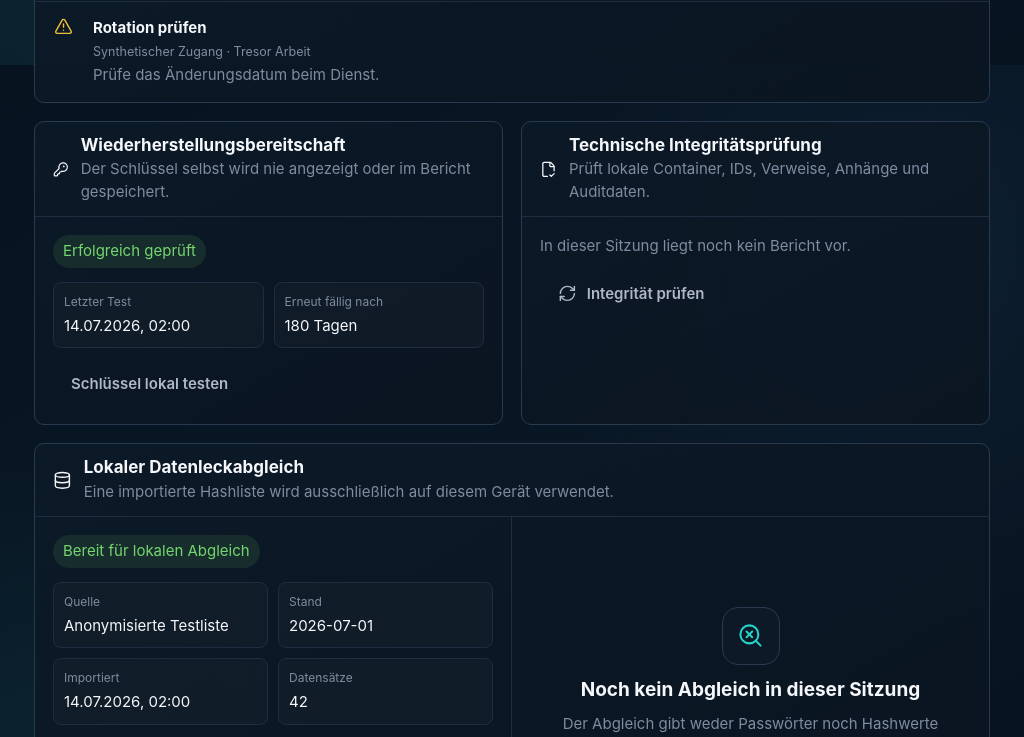
Test: Sicherheitszentrale › leert den Wiederherstellungsschlüssel beim Schließen und übergibt ihn nur an die sichere API
The image size is (1024, 737).
(page scrolled)
Expected: the element "Wiederherstellungsbereitschaft" is shown, top-left (34, 121), bottom-right (503, 425)
Click the button "Schlüssel lokal testen" at (150, 384), box top-left (53, 362), bottom-right (246, 406)
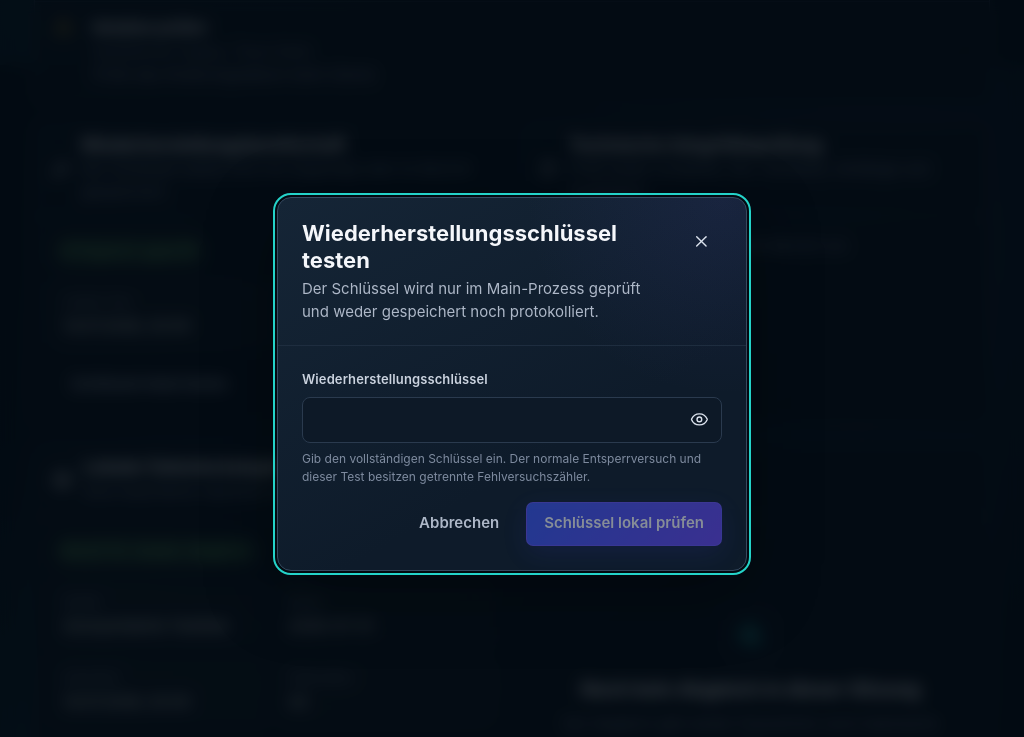
Type "SYNTHETISCHER-TESTSCHLUESSEL" into the password field labelled "Wiederherstellungsschlüssel" at (512, 420), box top-left (302, 397), bottom-right (722, 443)
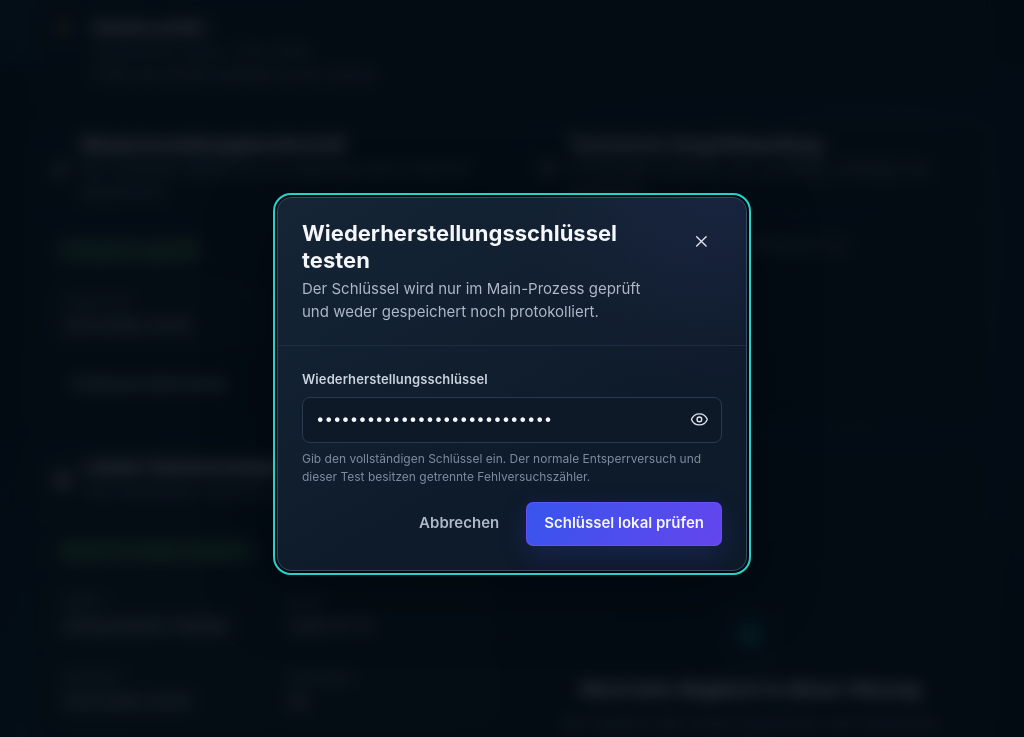
Click the button named "Dialog schließen" at (701, 241), box top-left (680, 220), bottom-right (722, 262)
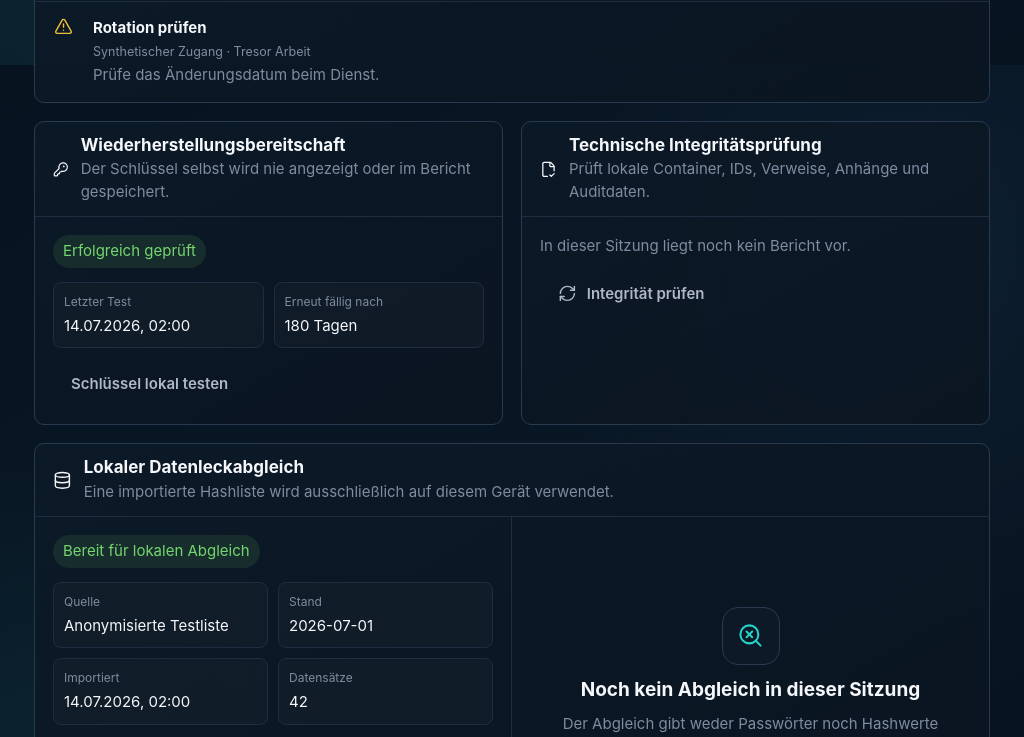
Click the button "Schlüssel lokal testen" at (150, 384), box top-left (53, 362), bottom-right (246, 406)
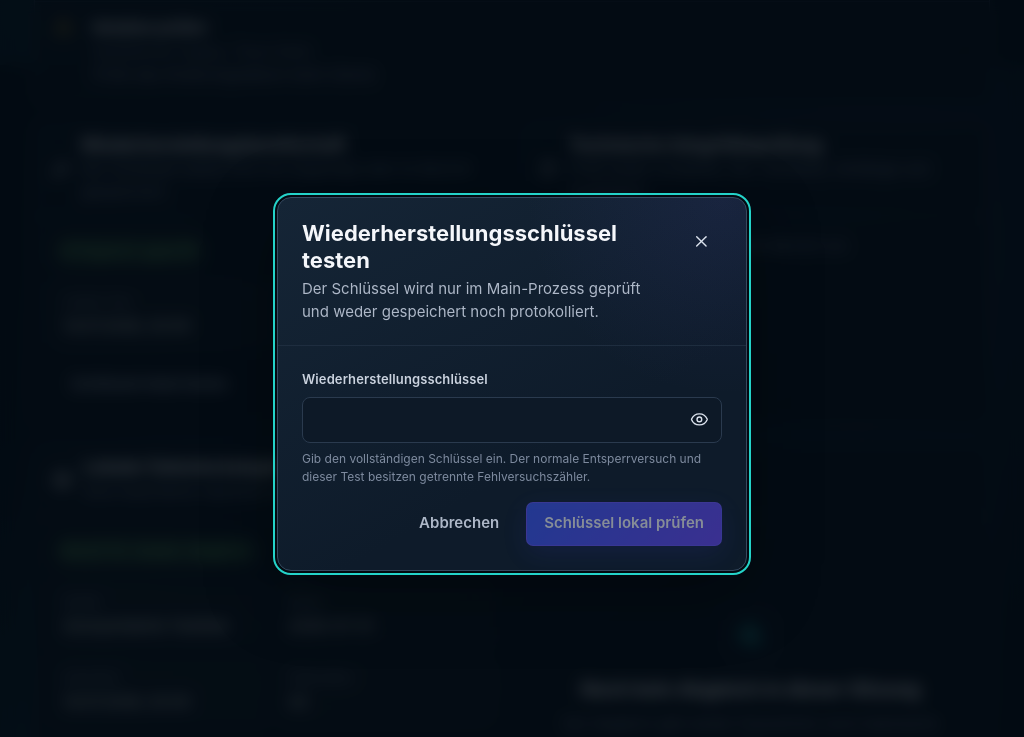
Expected: the password field labelled "Wiederherstellungsschlüssel" is empty
Type "SYNTHETISCHER-TESTSCHLUESSEL" into the password field labelled "Wiederherstellungsschlüssel" at (512, 420), box top-left (302, 397), bottom-right (722, 443)
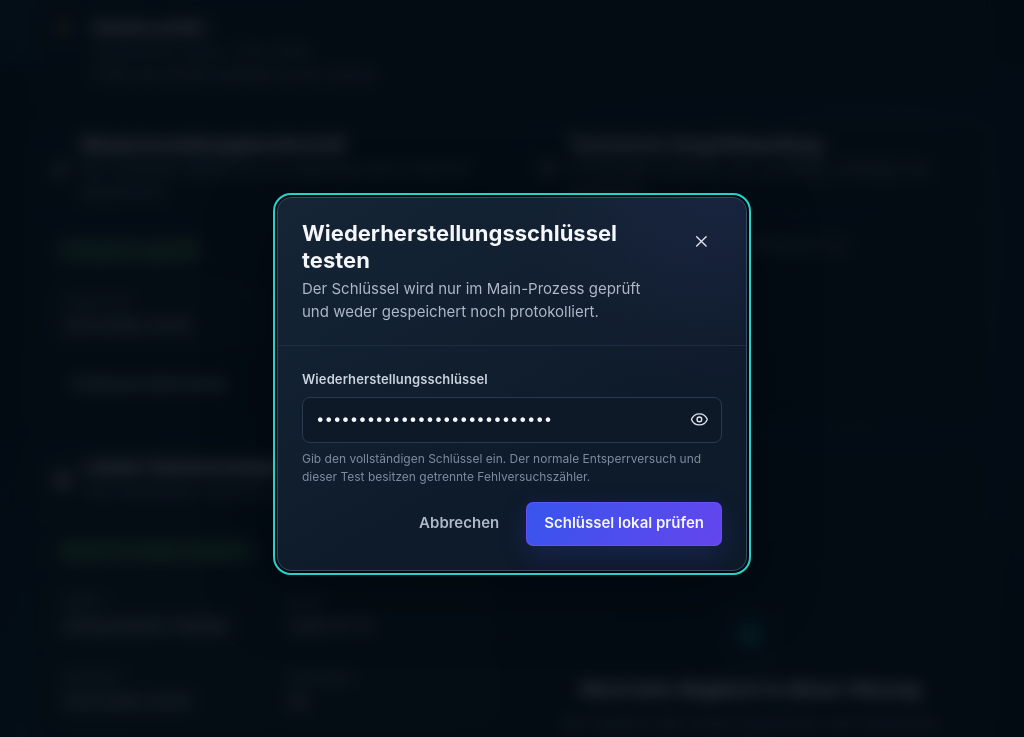
Click the button "Schlüssel lokal prüfen" at (624, 524), box top-left (526, 502), bottom-right (722, 546)
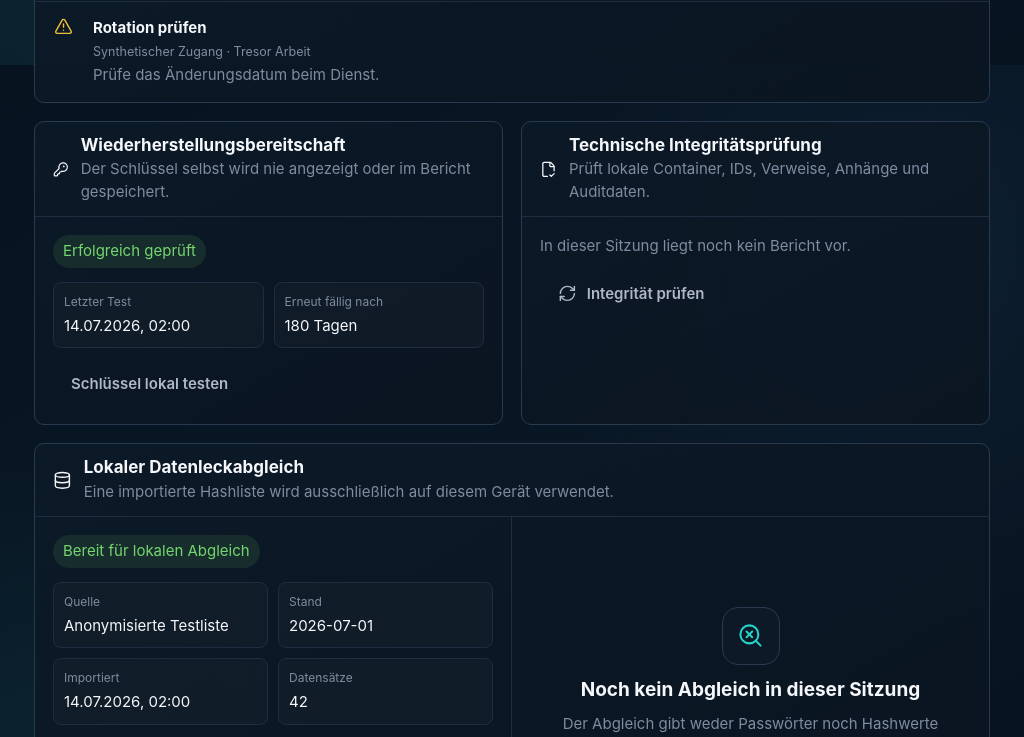
Expected: the heading "Wiederherstellungsschlüssel testen" is gone
